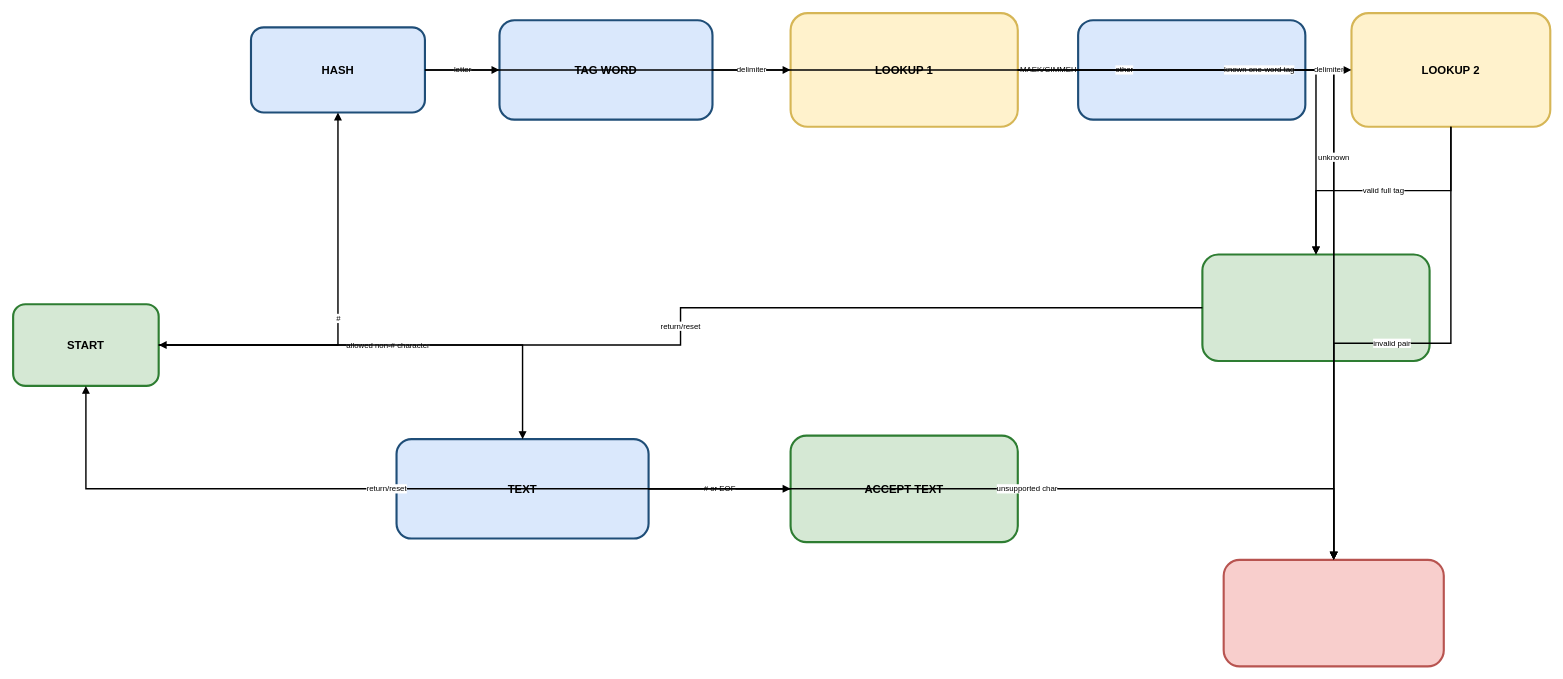
The diagram is 1563 pixels wide and 679 high, and some of its shapes have lost their labels. The shapes that lost their labels are listed below. From the top down, each one's centre as x and y in pixels, then its label:
the point at 1191,69: QUALIFIER
the point at 1315,307: ACCEPT TAG
the point at 1333,612: ERROR
